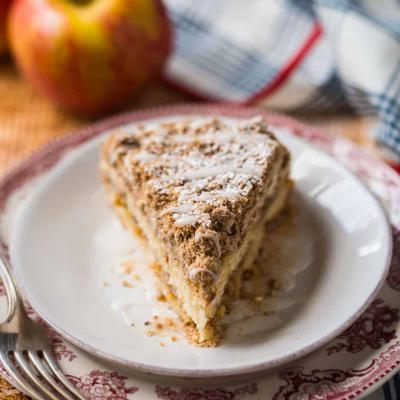cake: (91, 116, 306, 349)
